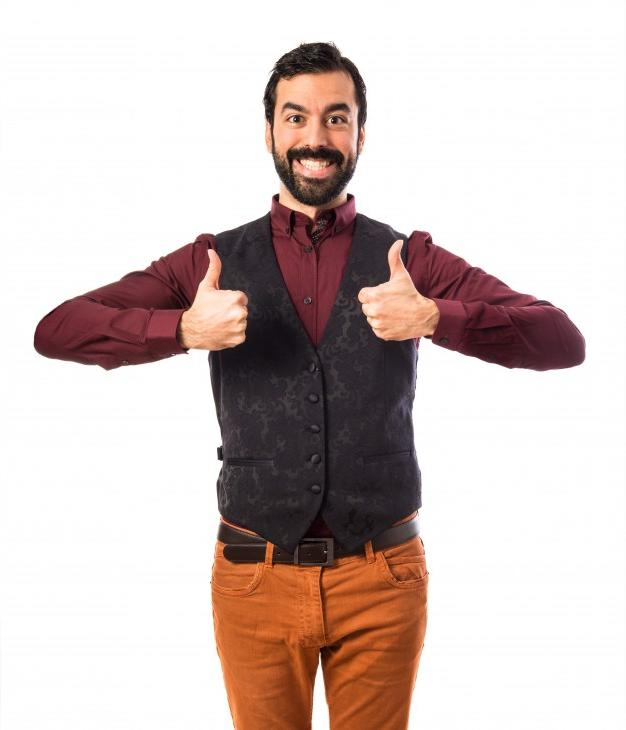thumbsup: (357, 239, 408, 340), (205, 248, 248, 348)
